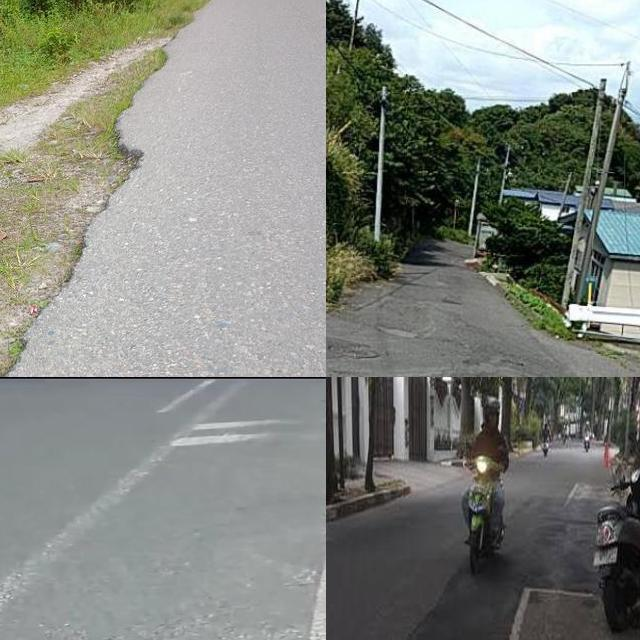Pinggir: (0, 60, 195, 377)
Sambungan: (418, 498, 604, 640)
